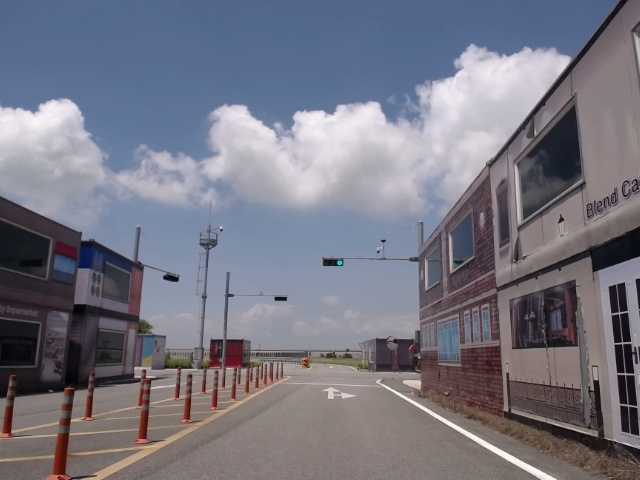green_3: (323, 259, 343, 267)
